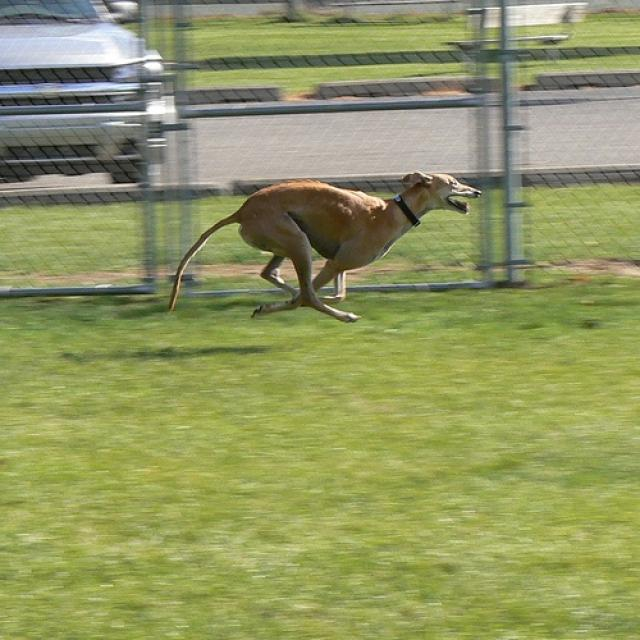car: (0, 0, 180, 189)
dog: (159, 158, 484, 332)
